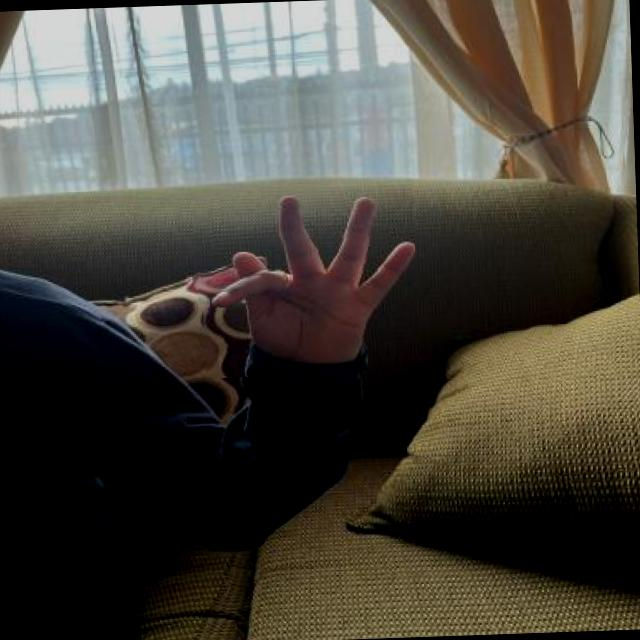F: (194, 184, 418, 380)
